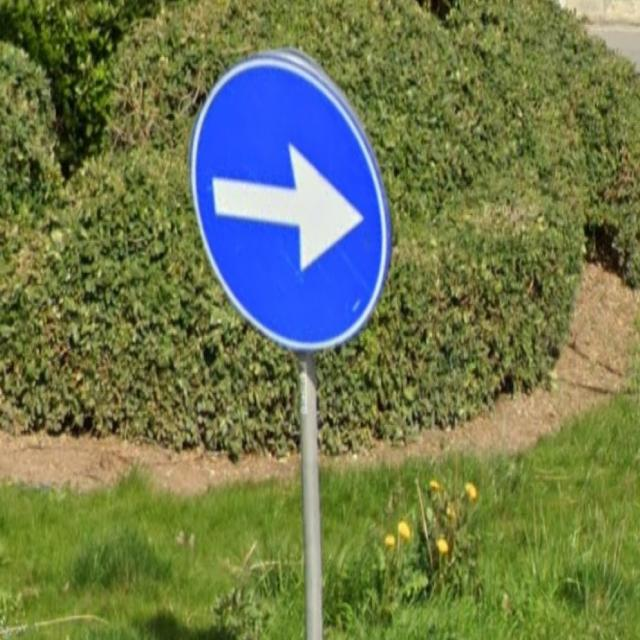Turn Right: (192, 63, 389, 352)
